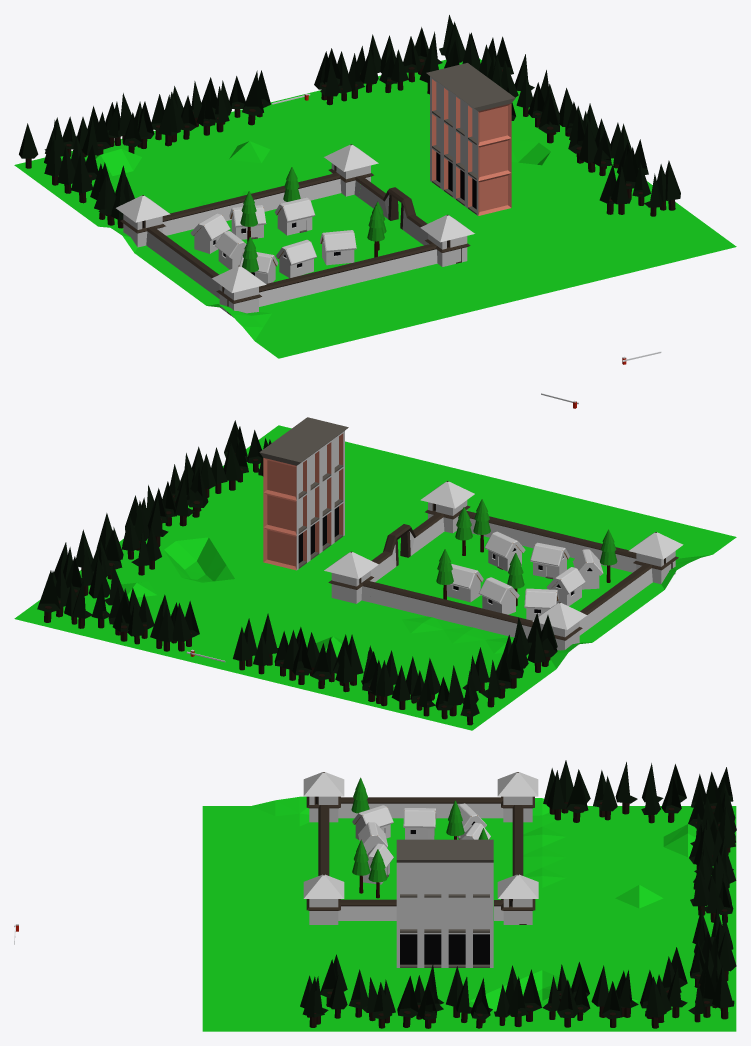
The model's file is town11a.obj.
3 views of the same model, one above another, from view 1: azimuth 30°, elevation 25°; view 2: azimuth 150°, elevation 25°; view 3: azimuth 270°, elevation 25° (orthographic).
Parts seen in each view (by area): view 1: FullSquare, Cube.045, CornerFort.004, CornerFort.001, CornerFort.003, CornerFort.002, Cube.053, Cube.051, Cube.054, Cube.048, Cube.015, Cube.016 (+14 smaller); view 2: FullSquare, Cube.045, CornerFort.002, CornerFort.004, CornerFort.001, CornerFort.003, Cube.051, Cube.049, Cube.053, Cube.054, Cube.002, Cube.003 (+13 smaller); view 3: FullSquare, Cube.045, CornerFort.001, CornerFort.002, CornerFort.004, CornerFort.003, Cube.033, Cube.050, Cube.052, Cube.021, Cube.020, Cylinder.138 (+23 smaller).
Part boxes in pixels (x1,y1,x2,y2): FullSquare: [14, 58, 736, 358]; Cube.045: [426, 63, 515, 215]; CornerFort.004: [212, 265, 266, 317]; CornerFort.001: [420, 214, 474, 266]; CornerFort.003: [116, 195, 170, 247]; CornerFort.002: [324, 144, 378, 196]; Cube.053: [275, 197, 315, 235]; Cube.051: [276, 239, 316, 277]; Cube.054: [320, 230, 356, 265]; Cube.048: [190, 213, 230, 253]; Cube.015: [300, 265, 345, 295]; Cube.016: [342, 255, 387, 285]; FullSquare: [14, 425, 736, 730]; Cube.045: [259, 417, 348, 570]; CornerFort.002: [324, 551, 378, 603]; CornerFort.004: [629, 532, 683, 584]; CornerFort.001: [420, 481, 474, 533]; CornerFort.003: [532, 602, 586, 650]; Cube.051: [530, 542, 569, 579]; Cube.049: [478, 577, 519, 614]; Cube.053: [446, 564, 483, 602]; Cube.054: [484, 531, 525, 571]; Cube.002: [453, 602, 498, 632]; Cube.003: [411, 592, 456, 622]; FullSquare: [202, 796, 736, 1031]; Cube.045: [396, 839, 493, 967]; CornerFort.001: [303, 874, 344, 924]; CornerFort.002: [497, 874, 538, 924]; CornerFort.004: [303, 772, 344, 822]; CornerFort.003: [497, 772, 538, 822]; Cube.033: [348, 899, 396, 920]; Cube.050: [403, 808, 436, 839]; Cube.052: [352, 805, 393, 839]; Cube.021: [396, 797, 445, 818]; Cube.020: [445, 797, 493, 818]; Cylinder.138: [397, 976, 418, 1027].
Size of the model in its own units: 110 by 28.4 by 149.
